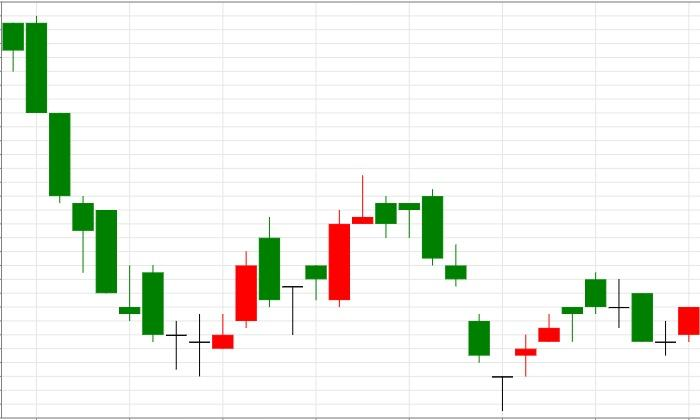morning_star_rise: (585, 271, 700, 356)
three_black_crows_fall: (328, 175, 491, 364)
